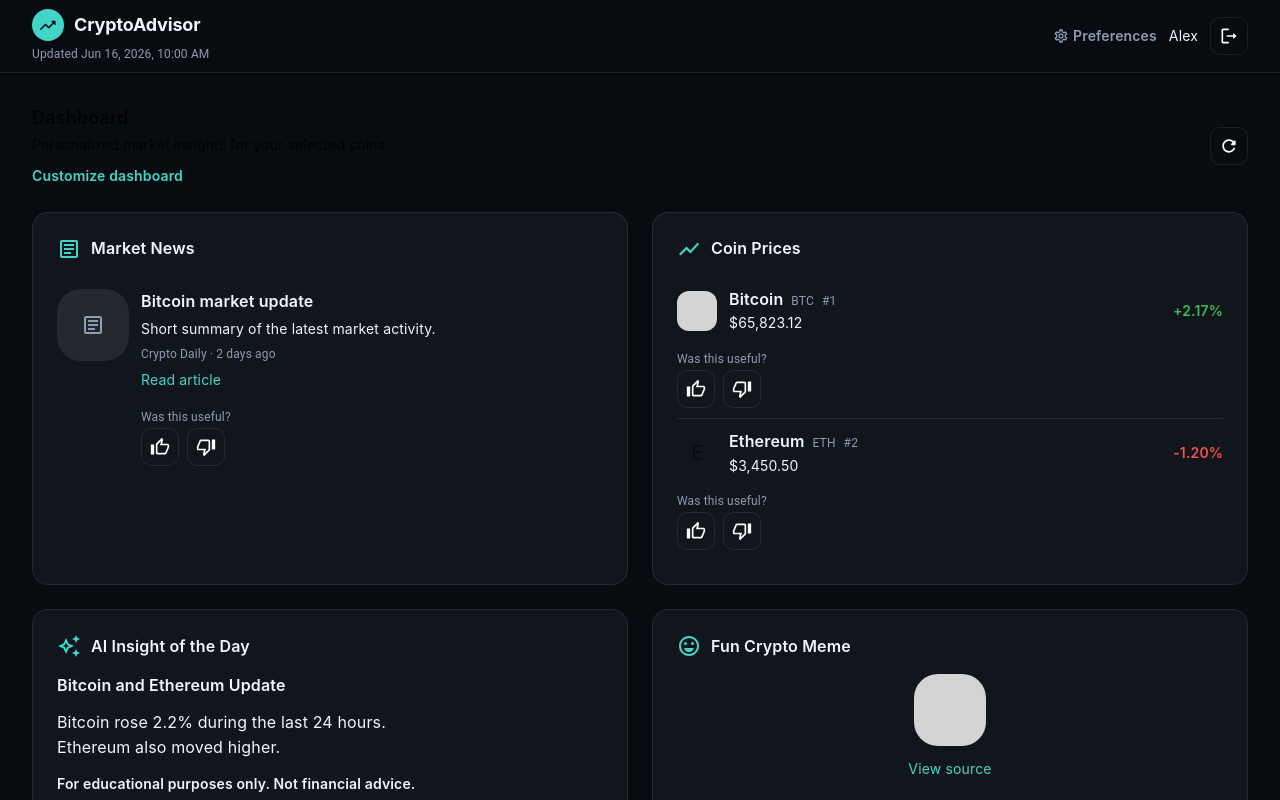
dashboard feedback › shows a safe inline message when saving feedback fails
The image size is (1280, 800).
Expected: the heading "Market News" is shown, [91, 237, 195, 260]
Click the button named "Mark as helpful" below "Read article" at x=160, y=447, box [141, 428, 179, 466]
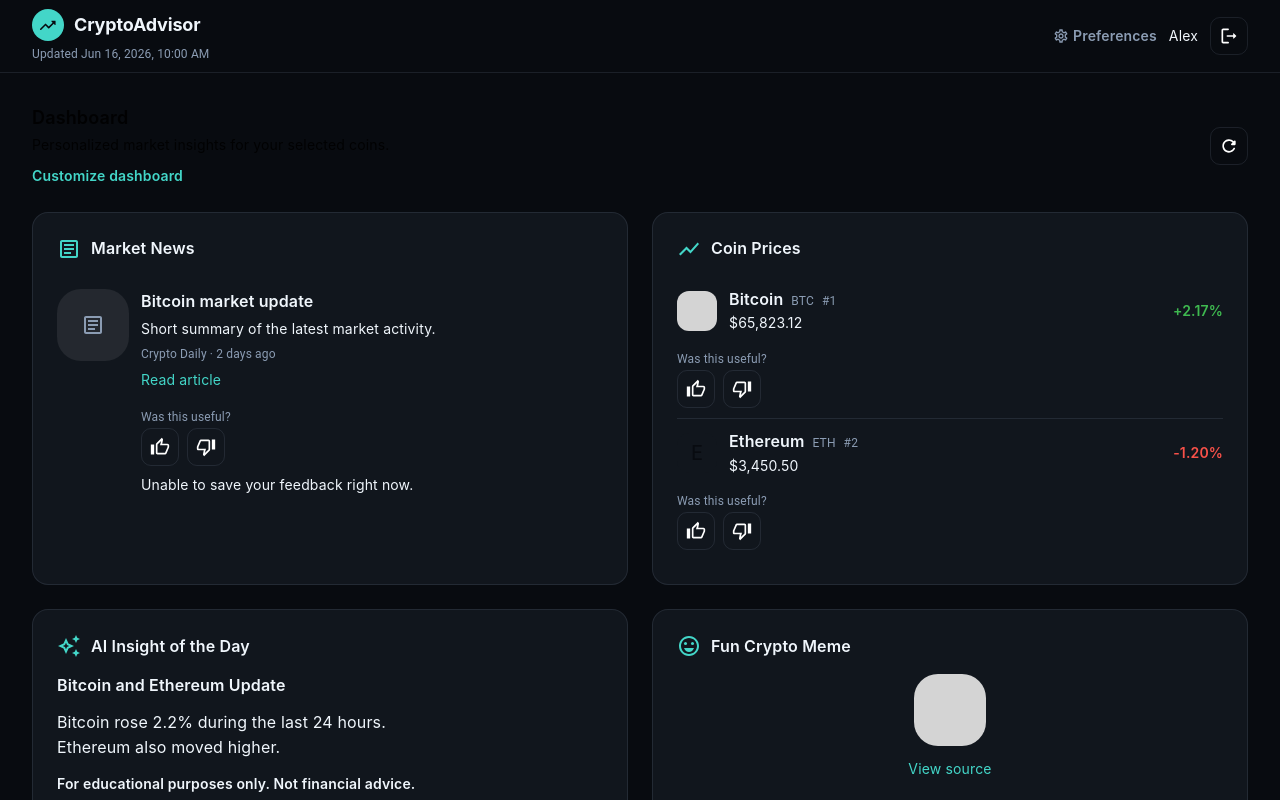
Now the text "Unable to save your feedback right now." is shown, box [141, 476, 413, 493]
